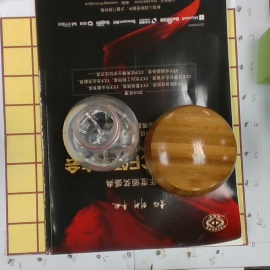bottle: (63, 96, 138, 171)
chess: (147, 109, 232, 193)
